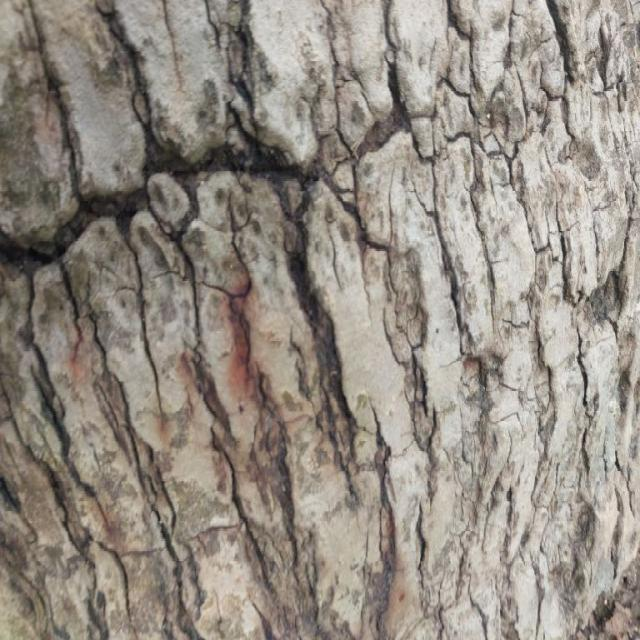stembleeding: (177, 243, 304, 447)
